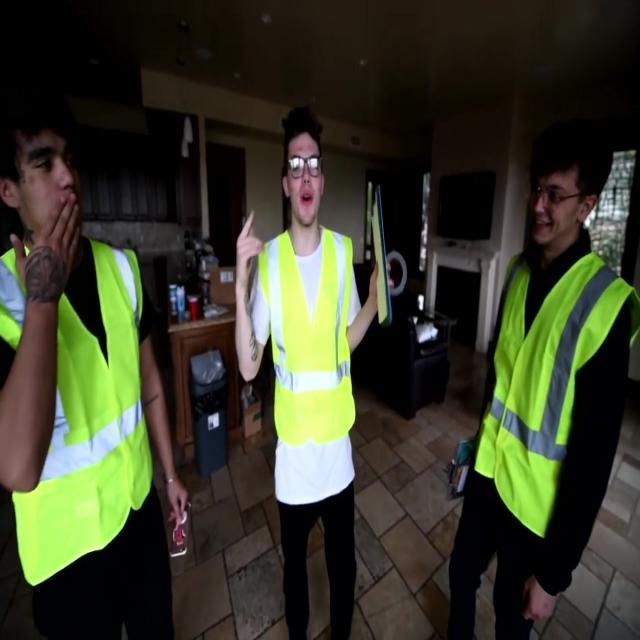reflective_jacket: (0, 232, 155, 576), (463, 246, 638, 544), (253, 223, 360, 468)
